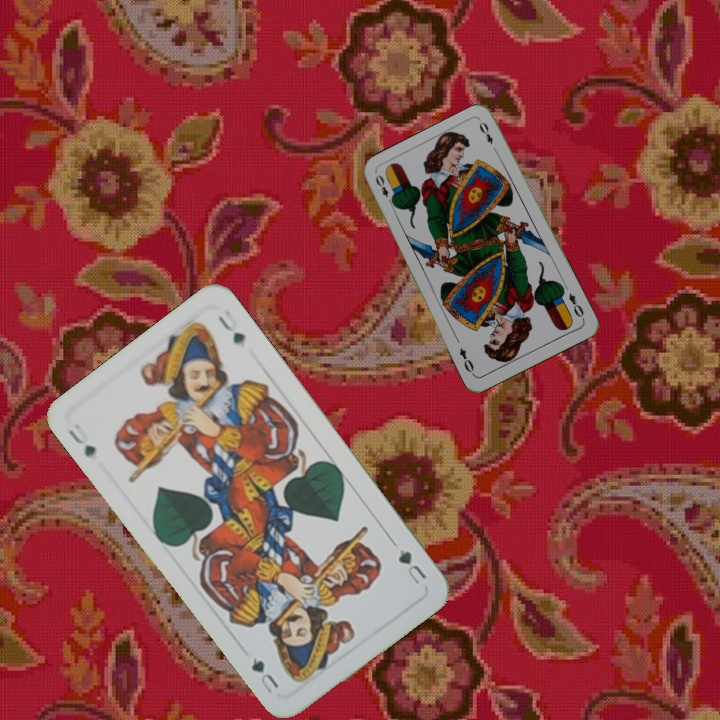EO: (371, 170, 396, 208), (565, 289, 587, 323)
GU: (393, 544, 430, 588), (64, 425, 99, 460)
